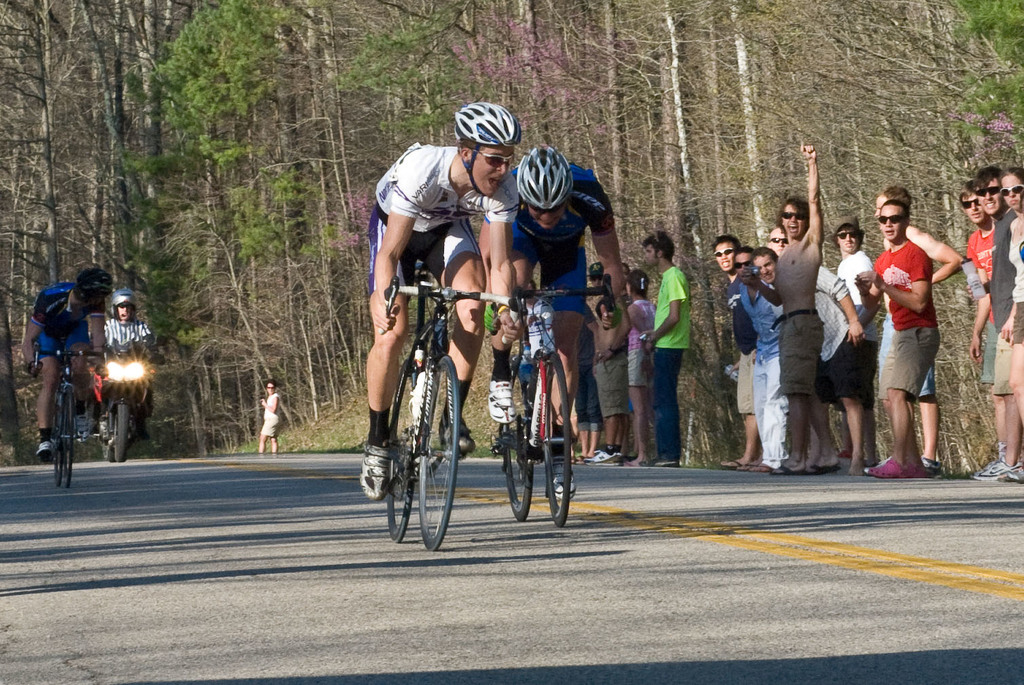Bike: (347, 292, 502, 569)
